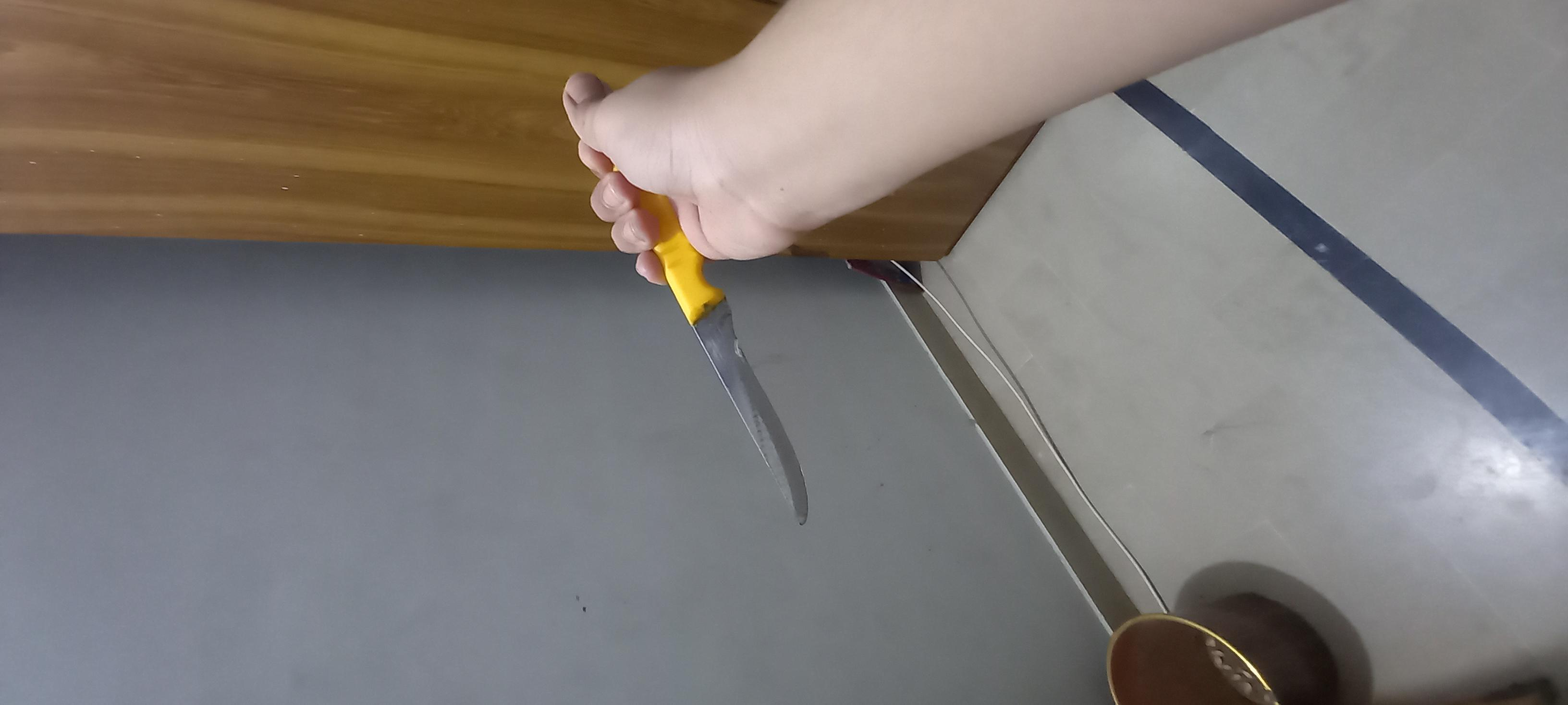knives: (355, 261, 1307, 389)
